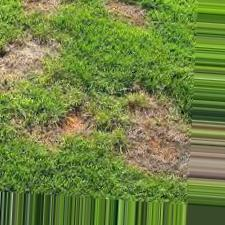patch: (126, 95, 179, 158), (17, 45, 64, 83), (60, 110, 90, 136), (27, 2, 67, 19), (114, 2, 137, 13)
